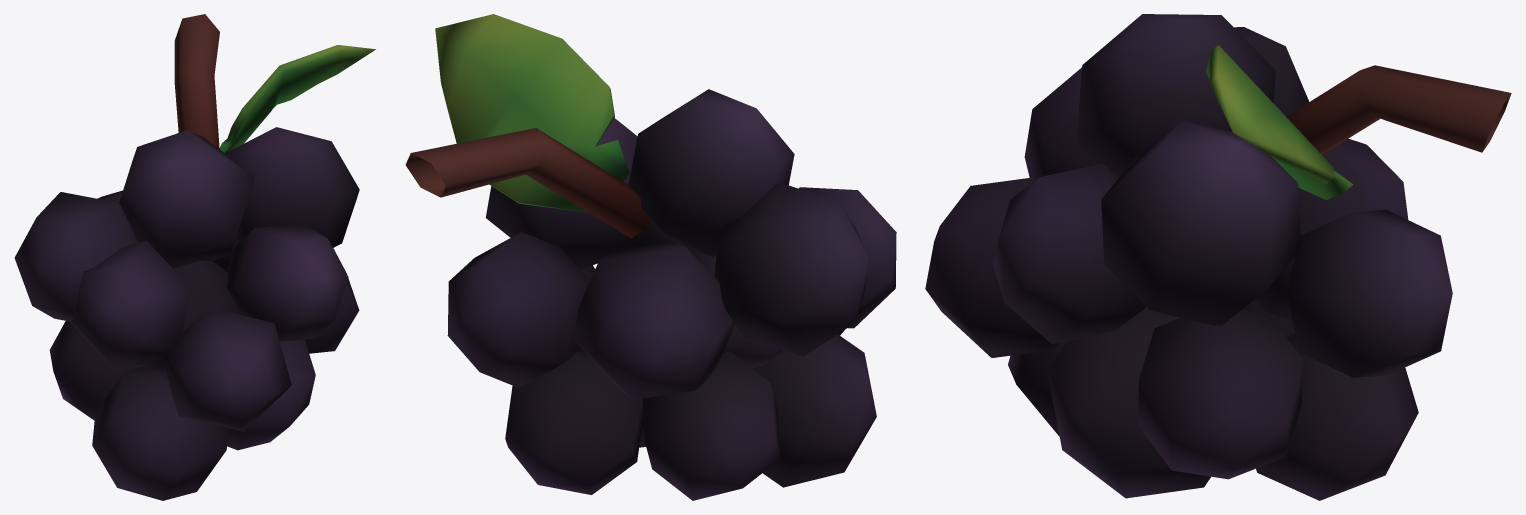
File: SM_Raspberry_A.fbx
3 renders of one model, left to right at view 1: azimuth 30°, elevation 25°; view 2: azimuth 150°, elevation 25°; view 3: azimuth 270°, elevation 25°, orthographic. The views are drawn at different scales.
Visible parts, largest first — view 1: SM_Raspberry_A; view 2: SM_Raspberry_A; view 3: SM_Raspberry_A.
Part boxes in pixels (x1=…): SM_Raspberry_A: x1=14, y1=14, x2=375, y2=500; SM_Raspberry_A: x1=405, y1=14, x2=896, y2=500; SM_Raspberry_A: x1=925, y1=14, x2=1511, y2=500.
Size of the model in its own units: 7.38 by 7.31 by 7.58.
